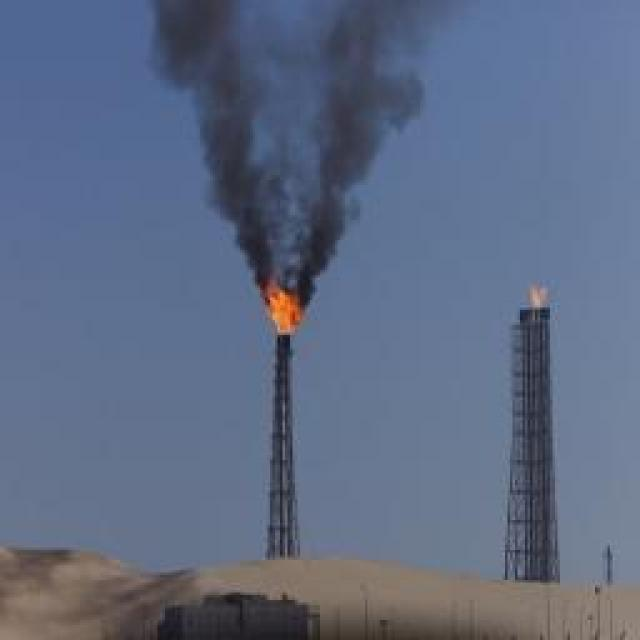fire: (265, 273, 305, 335)
smoke: (141, 0, 472, 310)
